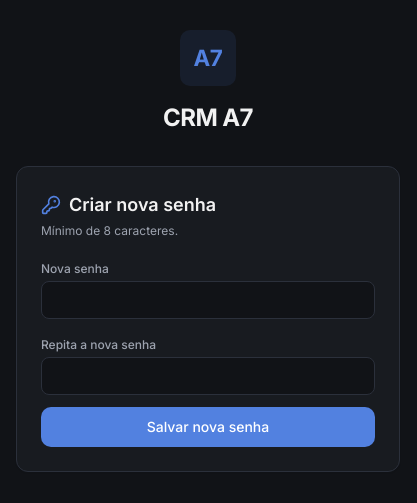
Test: tela de nova senha › valida antes de enviar: curta ou diferente não chega ao Supabase
Type "curta" into the password field labelled "Nova senha" at (208, 300), box [41,281,375,319]
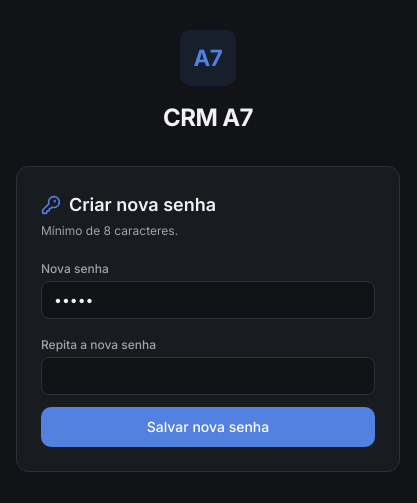
Type "curta" into the password field labelled "Repita a nova senha" at (208, 376), box [41,357,375,395]
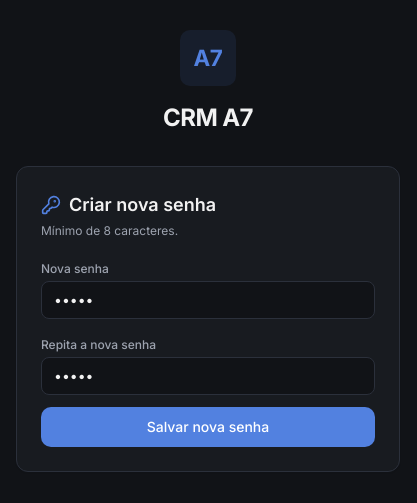
Click the button "Salvar nova senha" at (208, 427), box [41,407,375,447]
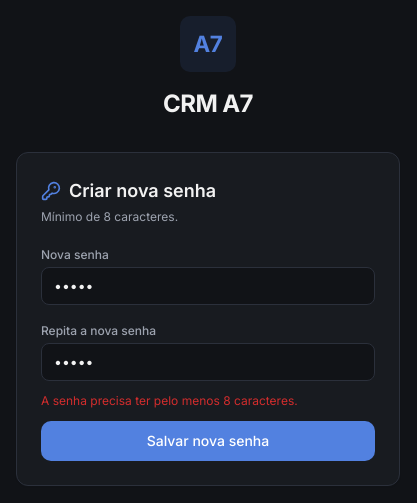
Now the message shows "8 caracteres", box [41,393,298,408]
Type "senhaLonga1" into the password field labelled "Nova senha" at (208, 286), box [41,267,375,305]
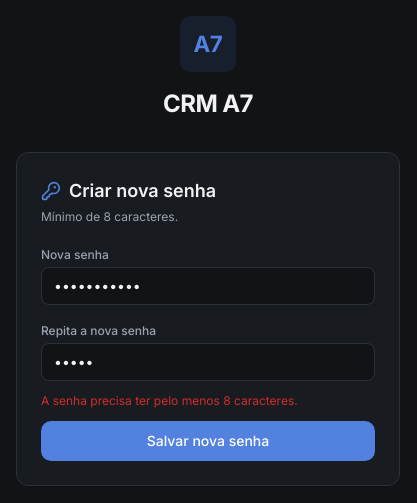
Type "senhaLonga2" into the password field labelled "Repita a nova senha" at (208, 362), box [41,343,375,381]
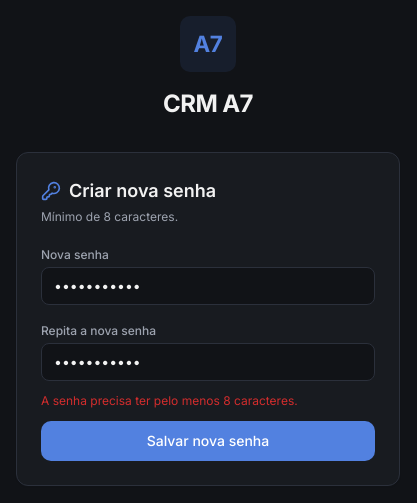
Click the button "Salvar nova senha" at (208, 441), box [41,421,375,461]
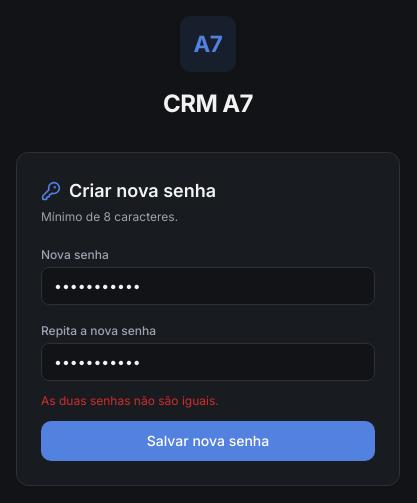
Now the message shows "não são iguais", box [41,393,219,408]
